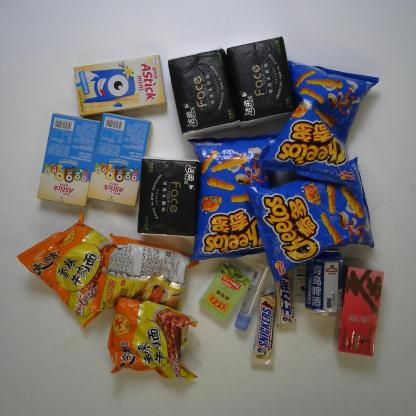Alcohol: (302, 246, 346, 318)
Candy: (197, 260, 253, 322)
Chocolate: (248, 290, 282, 367), (270, 260, 297, 328)
Dessert: (33, 110, 102, 210), (86, 110, 152, 208), (71, 51, 168, 115)
Instant Drink: (333, 265, 385, 358)
Instant Noodles: (16, 208, 135, 328), (88, 233, 202, 320), (108, 294, 200, 384)
Puffed Food: (252, 54, 382, 189), (245, 154, 380, 281), (184, 134, 304, 264)
Stationery: (233, 262, 270, 332), (290, 237, 314, 305)
Tissue: (226, 31, 300, 132), (166, 45, 242, 142), (133, 154, 204, 240)
